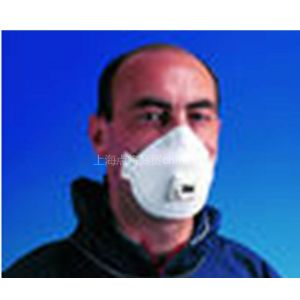face_mask: (110, 56, 219, 213)
